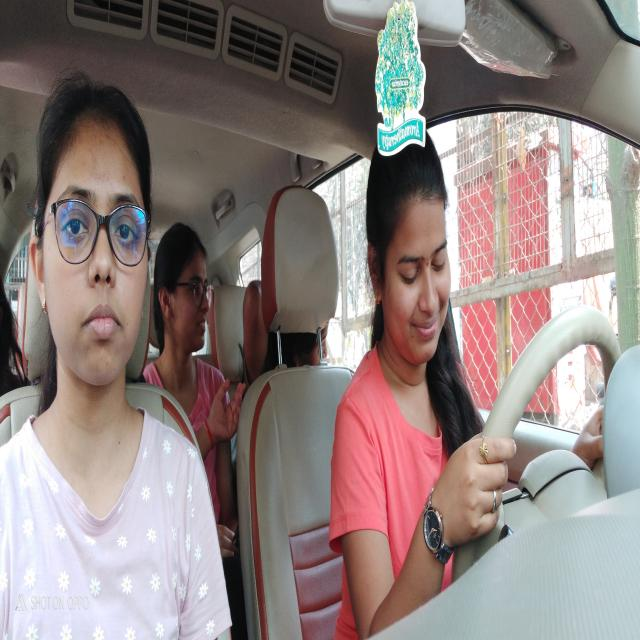drowsy: (368, 168, 454, 362)
person: (28, 96, 153, 391), (160, 226, 214, 366)
